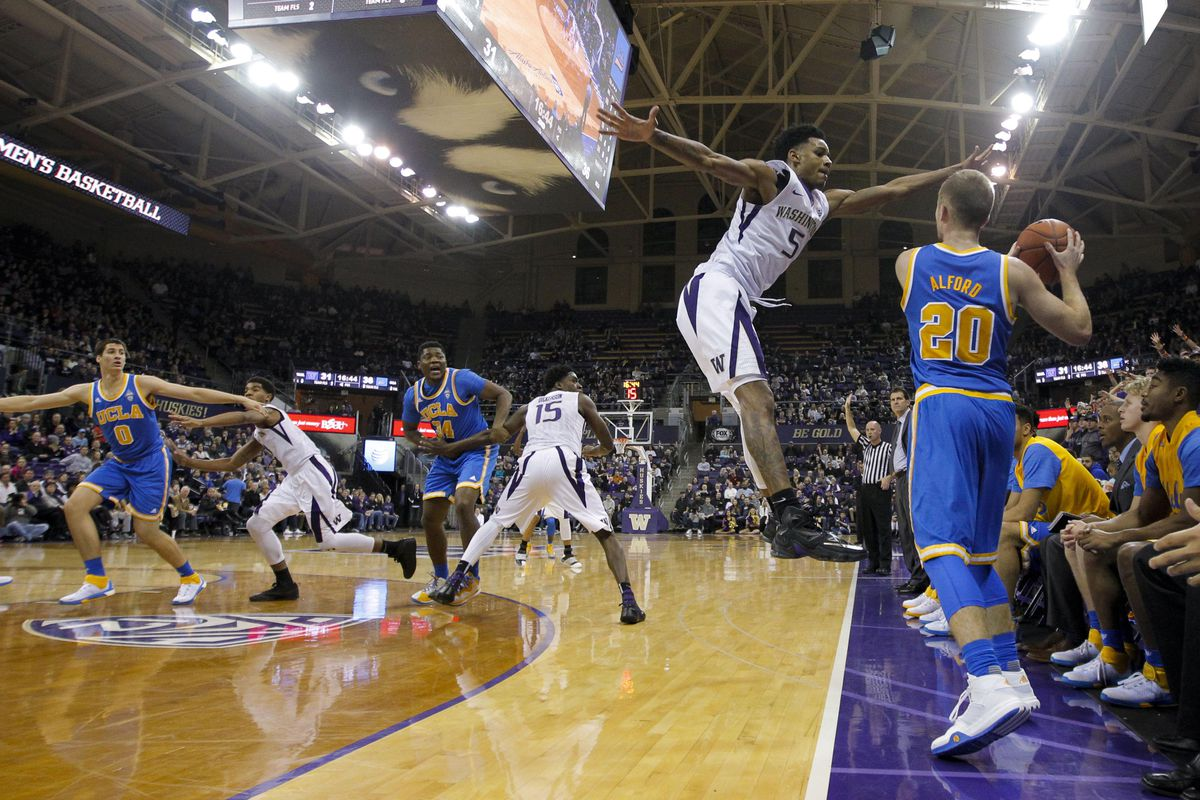basketball: (1006, 205, 1084, 283)
basketball player: (887, 172, 1091, 761), (670, 75, 877, 573), (30, 320, 208, 623), (179, 342, 376, 613), (471, 341, 631, 637), (389, 319, 506, 620)
